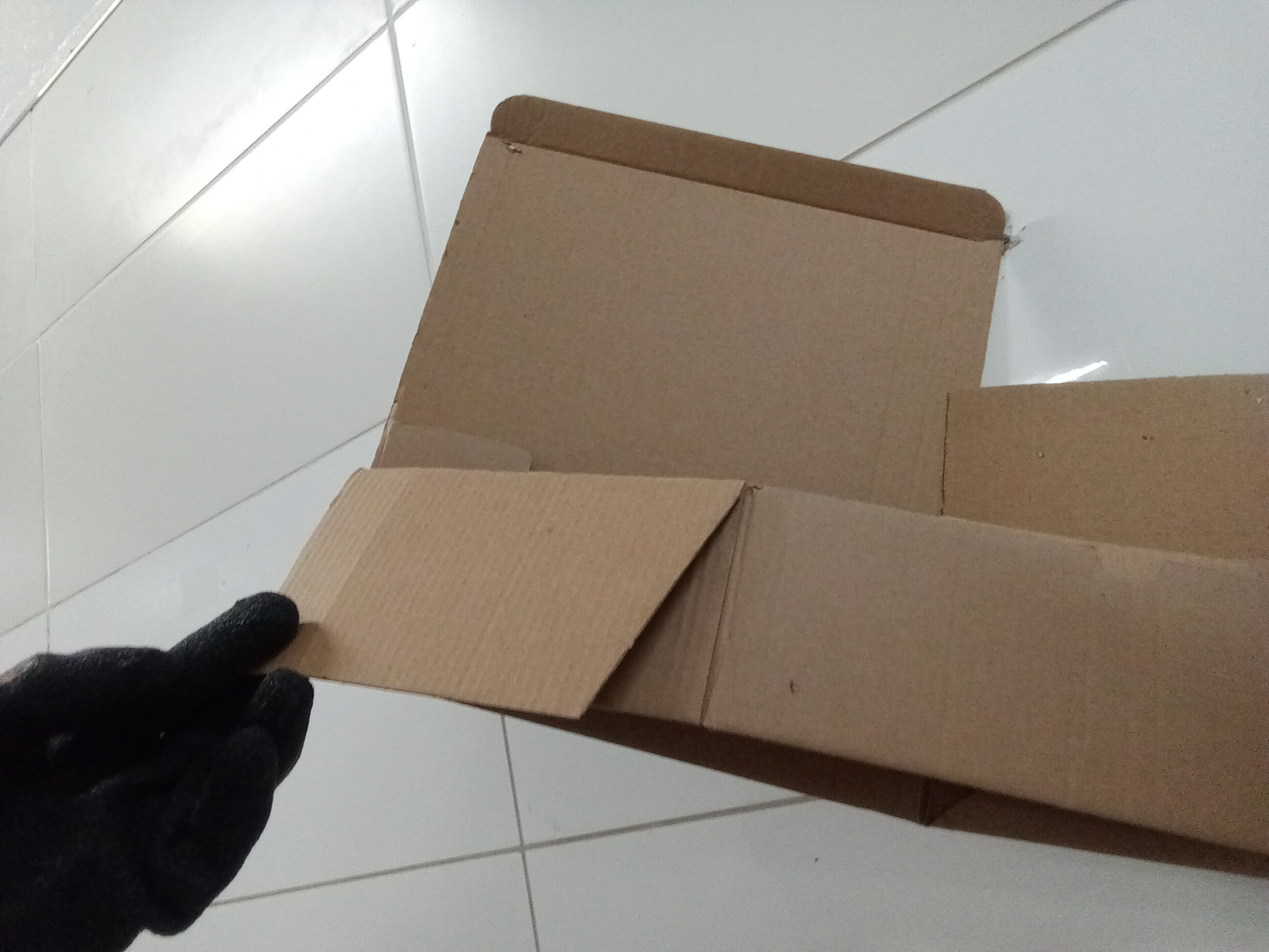Carton: (256, 97, 1265, 878)
